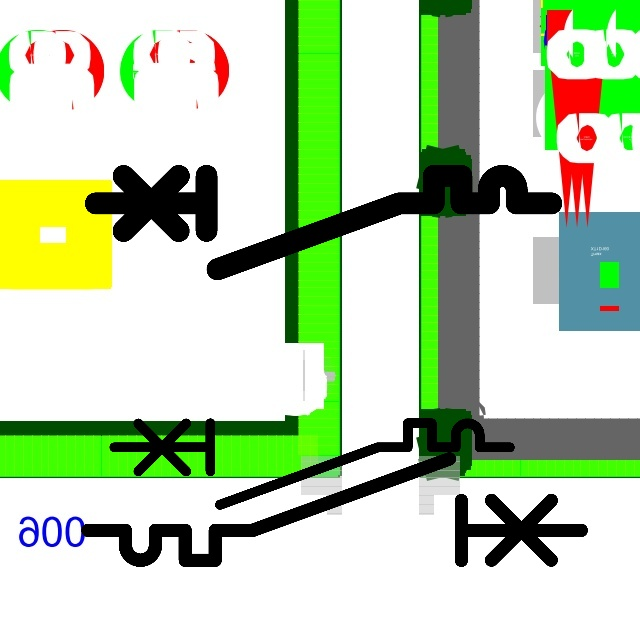interruptor_termomagnetico: (75, 446, 594, 573), (84, 164, 563, 281), (104, 413, 520, 515)
